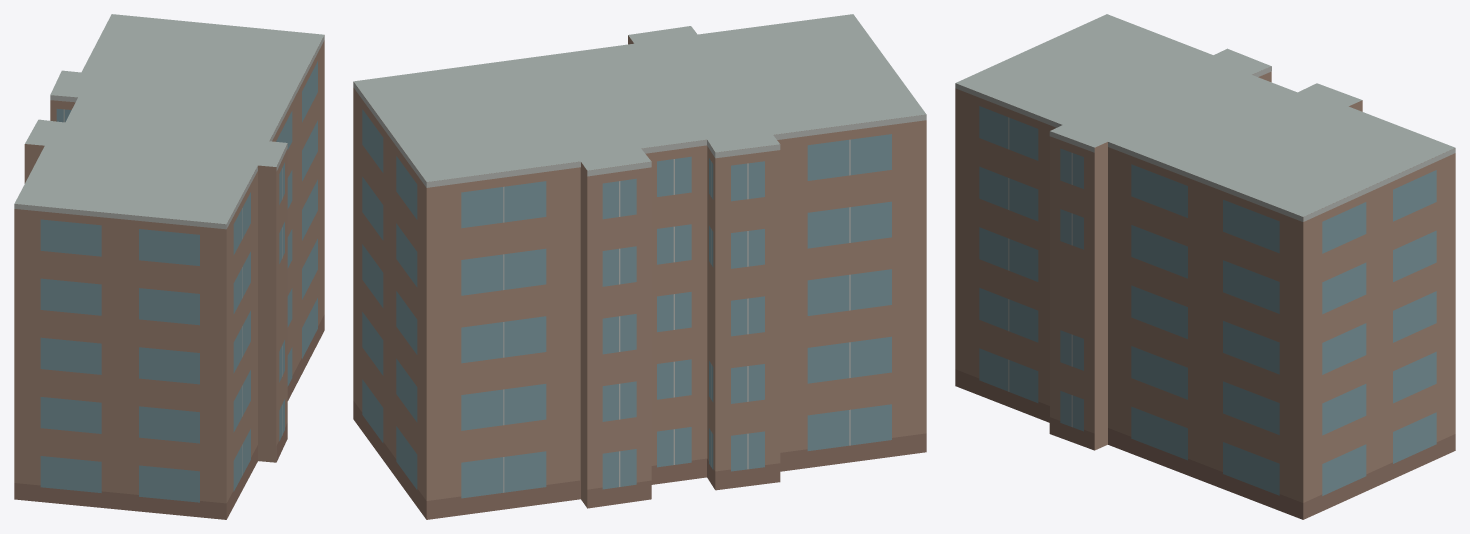
File: survey-upis-32691461.glb
The picture shows the model from 3 angles, left to right: view 1: azimuth 30°, elevation 25°; view 2: azimuth 150°, elevation 25°; view 3: azimuth 270°, elevation 25°; orthographic projection. The views are drawn at different scales.
Parts seen in each view (by area): view 1: survey-upis-32691461.tmp; view 2: survey-upis-32691461.tmp; view 3: survey-upis-32691461.tmp.
Boxes of the visible parts, box(x1,y1,x2,y2) form: survey-upis-32691461.tmp: box(14, 14, 324, 519); survey-upis-32691461.tmp: box(353, 14, 926, 519); survey-upis-32691461.tmp: box(955, 14, 1455, 519).
Bounding box in the file's own units: 20.56 × 14.3 × 21.42.
